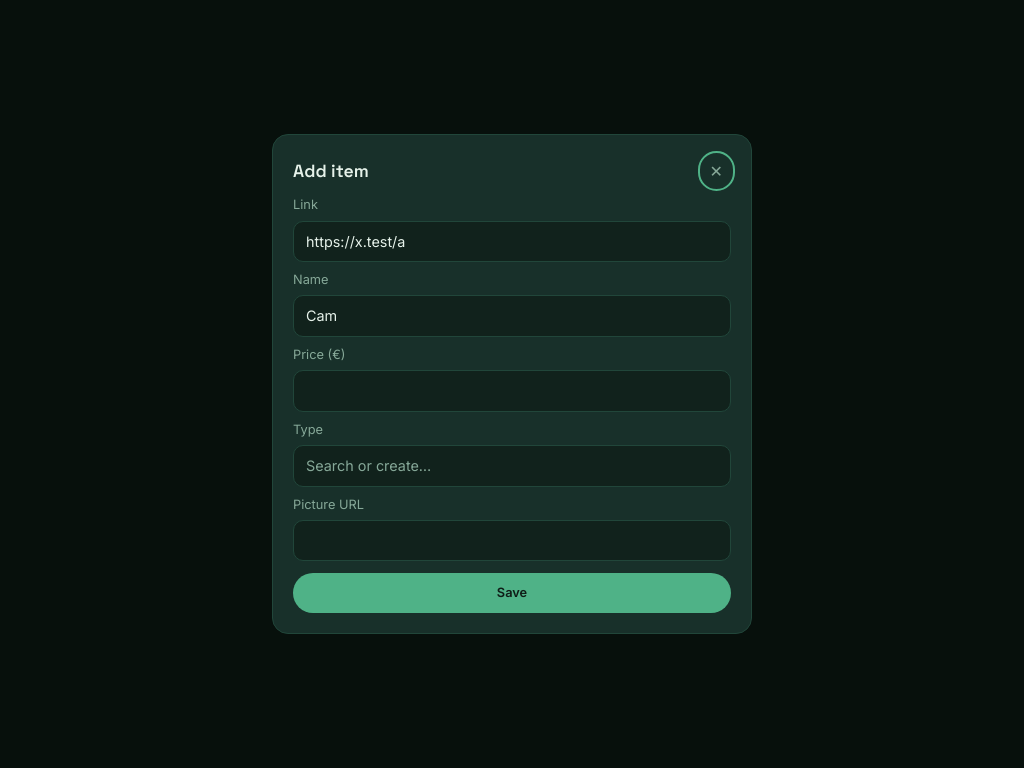
Test: picks an existing type from the list
The image size is (1024, 768).
Later steps or results of the test are not shown.
Focus the dropdown labelled "Type" at (512, 466), box x1=293 y1=445 x2=731 y2=487
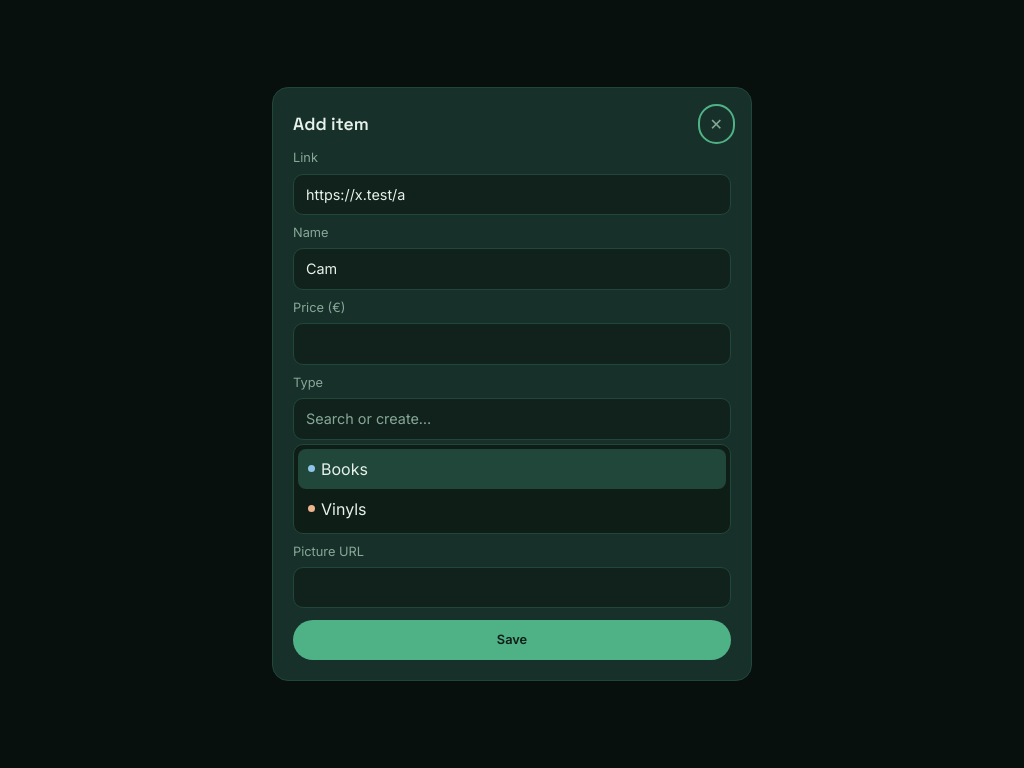
Click the option "Vinyls" at (337, 508), box x1=308 y1=498 x2=366 y2=518
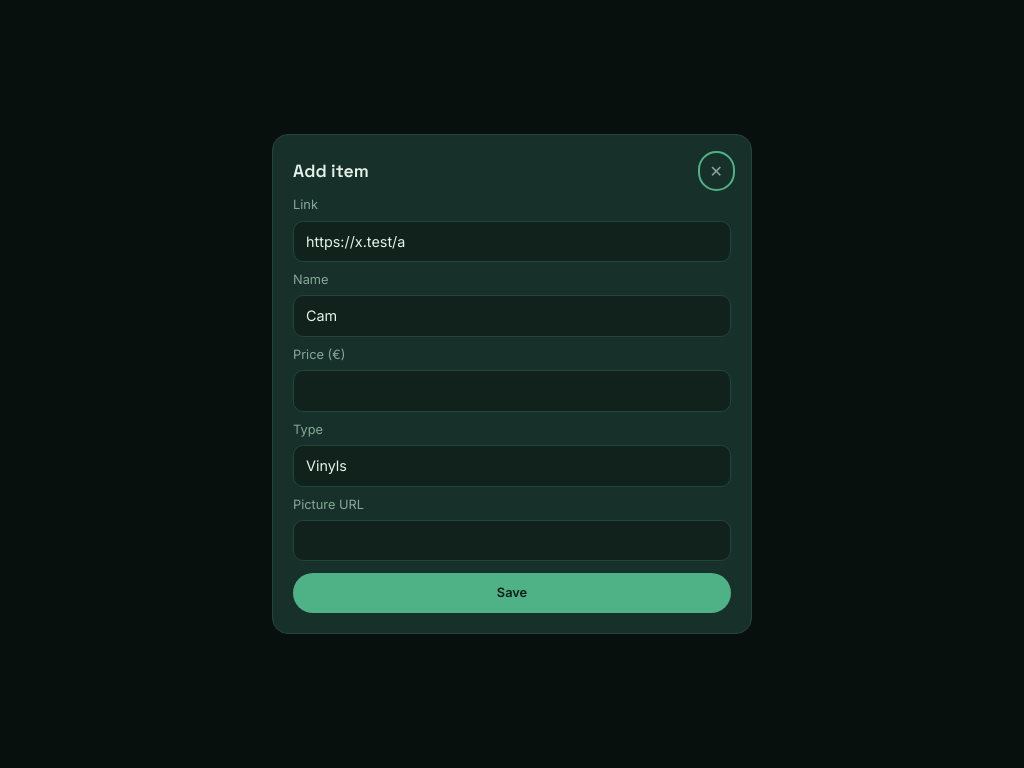
Now the dropdown labelled "Type" holds "Vinyls", box x1=293 y1=445 x2=731 y2=487
